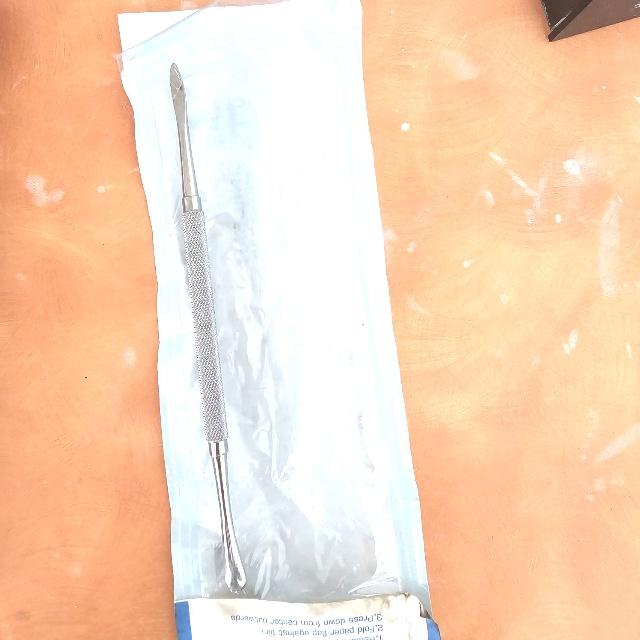elevador: (170, 60, 250, 592)
